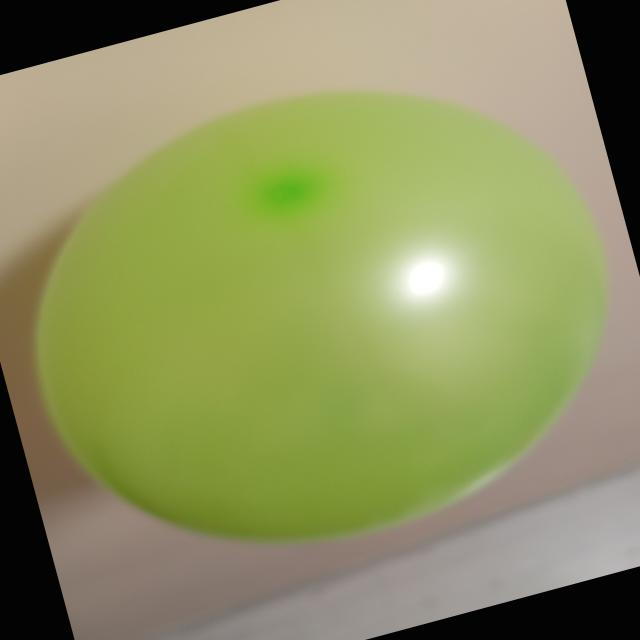balloon: (35, 92, 606, 541)
